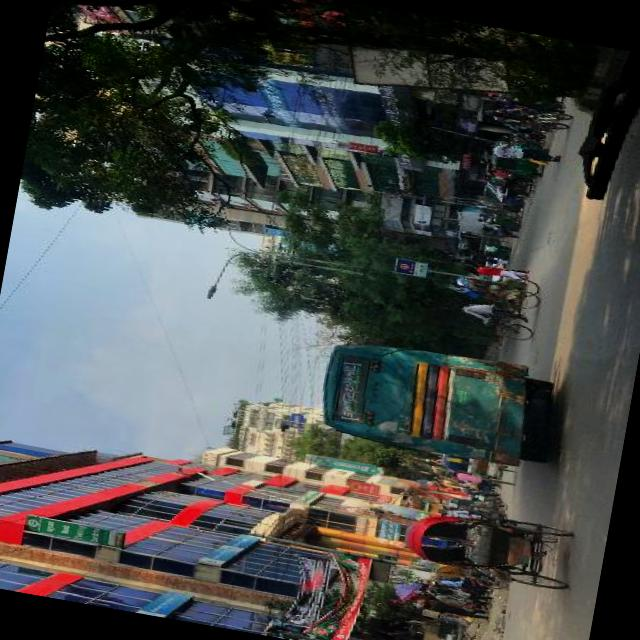bus: (314, 329, 566, 474)
motorcycle: (397, 498, 579, 591), (446, 266, 545, 344), (438, 453, 522, 487), (428, 558, 512, 592), (488, 136, 548, 178), (484, 169, 534, 195), (483, 242, 511, 260)
